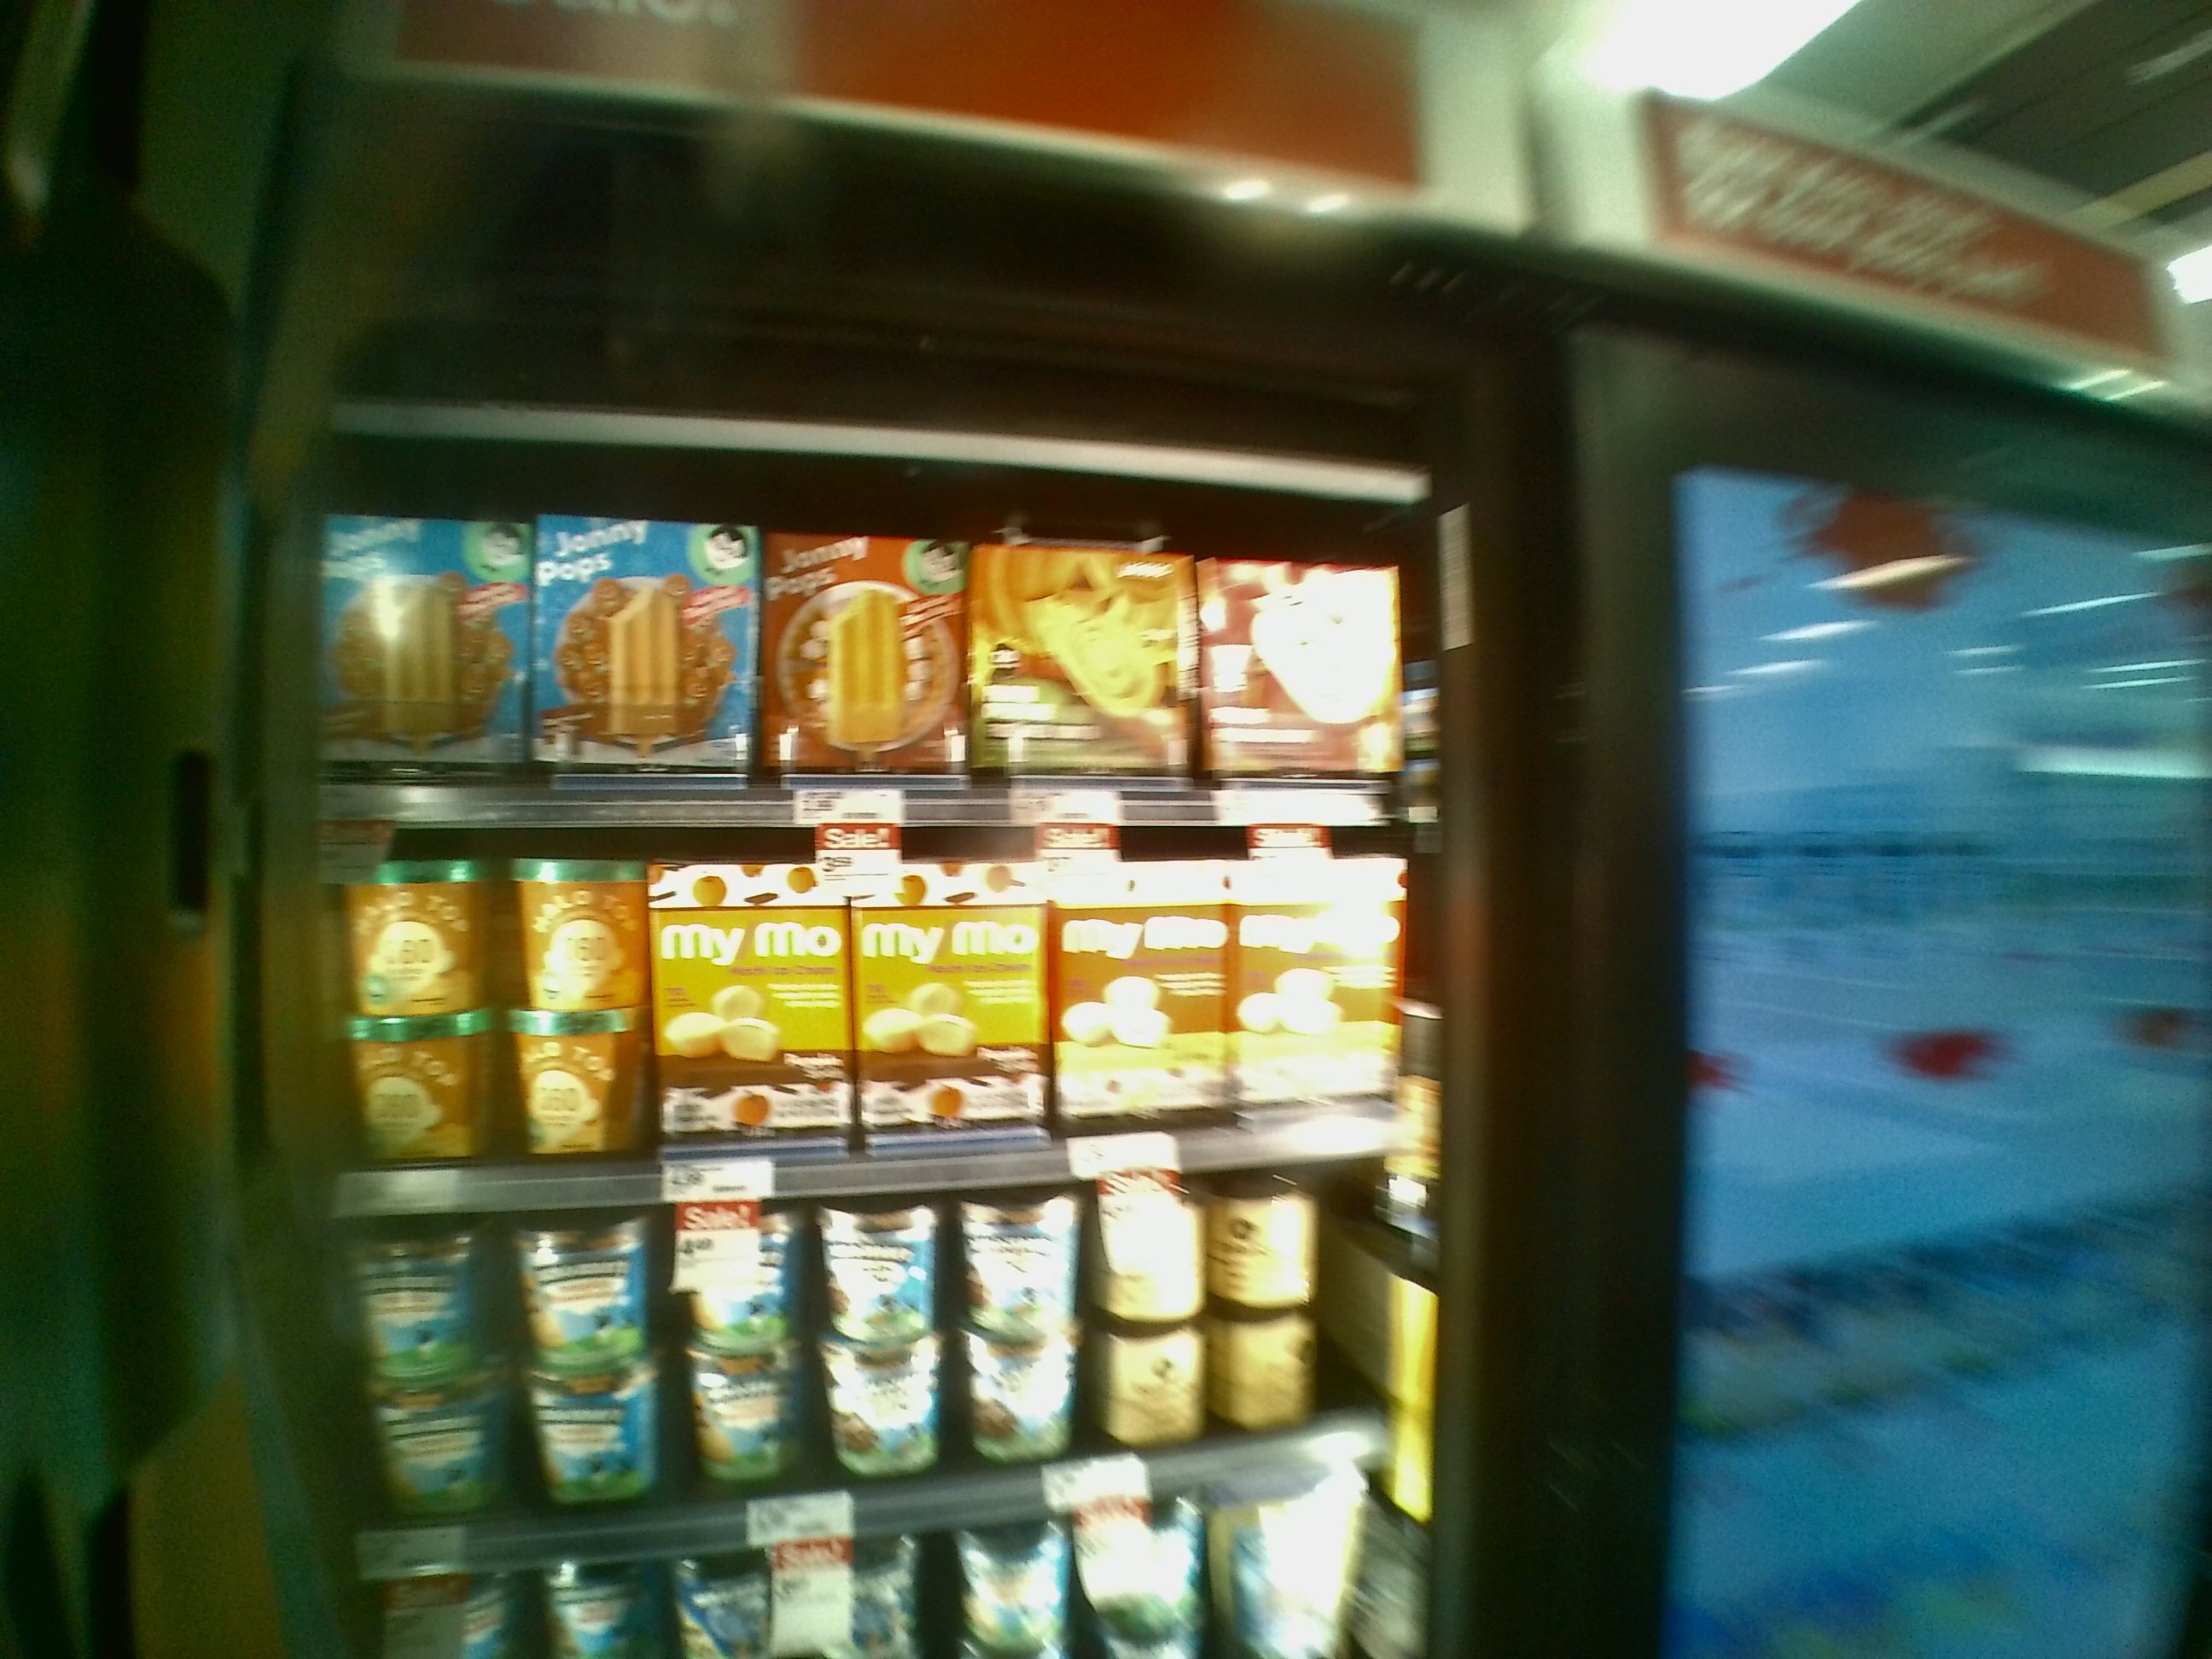shelf: (265, 788, 1454, 1175), (284, 462, 1446, 835), (268, 1171, 1432, 1481)
